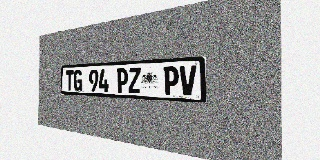4: (99, 69, 109, 92)
9: (89, 69, 99, 92)
G: (74, 70, 82, 91)
P: (163, 66, 179, 95), (116, 68, 128, 93)
T: (66, 70, 74, 91)
V: (179, 65, 196, 96)
Z: (128, 68, 141, 93)
